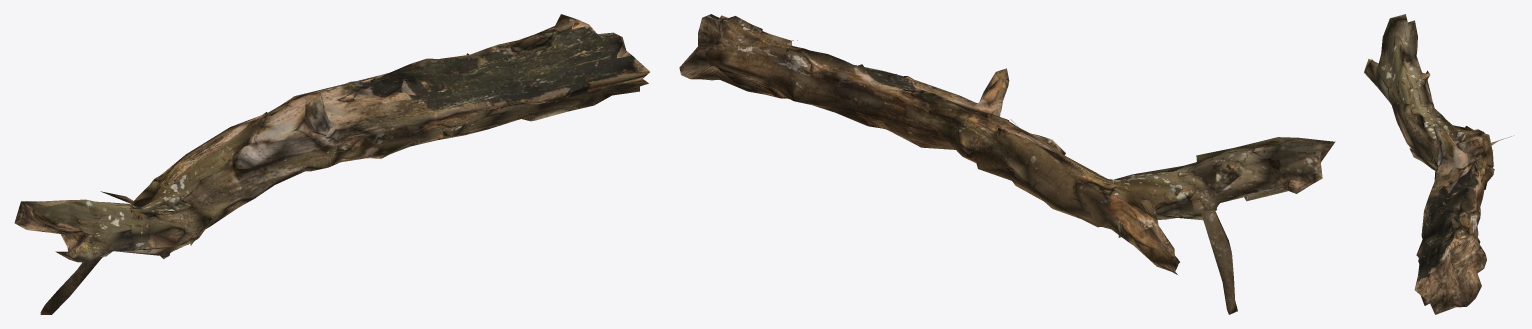
File: dead_tree_trunk_02.glb
The picture shows the model from 3 angles, left to right: view 1: azimuth 30°, elevation 25°; view 2: azimuth 150°, elevation 25°; view 3: azimuth 270°, elevation 25°; orthographic projection. The views are drawn at different scales.
Parts seen in each view (by area): view 1: dead_tree_trunk_02; view 2: dead_tree_trunk_02; view 3: dead_tree_trunk_02.
Boxes of the visible parts, x1,y1,x2,y2 form: dead_tree_trunk_02: (14, 14, 649, 314); dead_tree_trunk_02: (679, 14, 1335, 314); dead_tree_trunk_02: (1364, 14, 1511, 314).
Size of the model in its own units: 4.05 by 1.04 by 1.04.
Materials: 1 (1 with a texture image).
